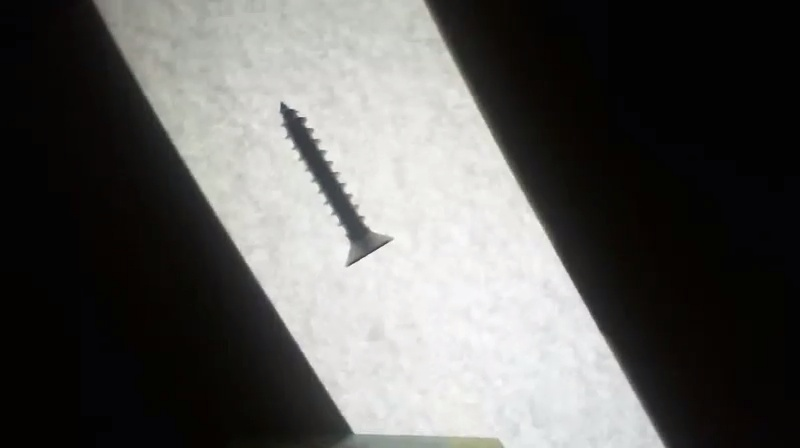S001: (270, 100, 398, 270)
